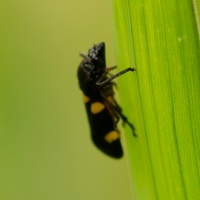insect: (77, 42, 136, 157)
